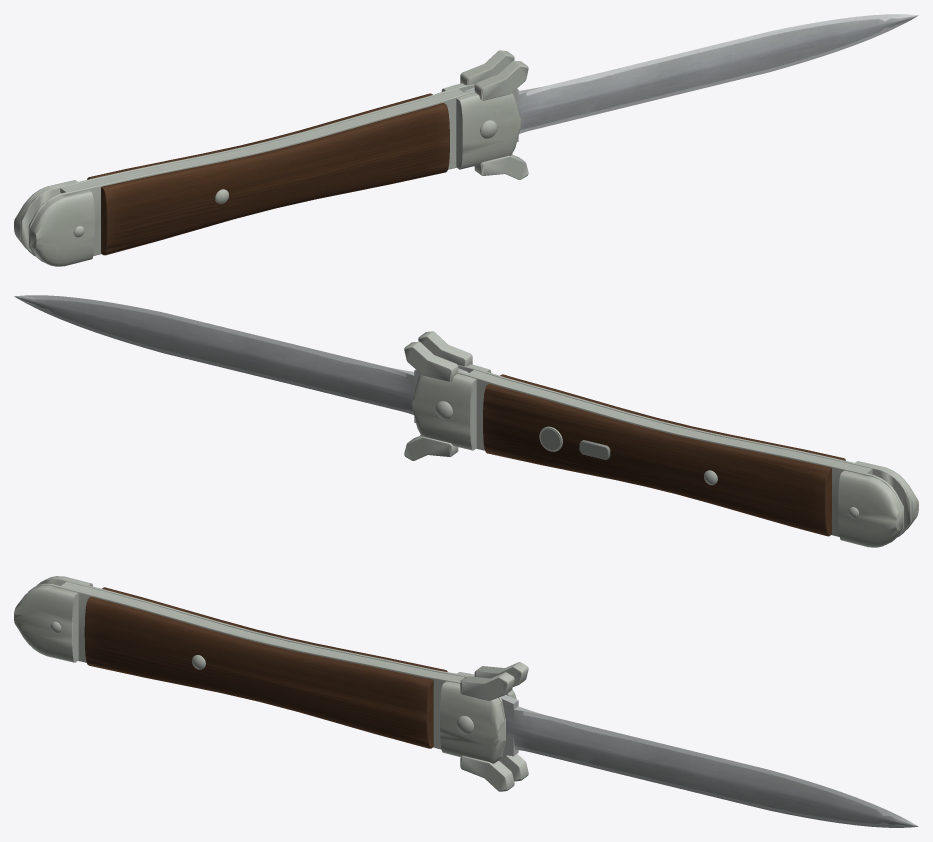
The model's file is stiletto_lod1.glb.
3 renders of one model, top to bottom at view 1: azimuth 30°, elevation 25°; view 2: azimuth 150°, elevation 25°; view 3: azimuth 330°, elevation 25°, orthographic.
Visible parts, largest first — view 1: body, blade_pivot_mesh; view 2: body, blade_pivot_mesh; view 3: body, blade_pivot_mesh.
Boxes of the visible parts, x1,y1,x2,y2 form: body: (14,50,528,266); blade_pivot_mesh: (464,14,918,141); body: (404,331,918,547); blade_pivot_mesh: (14,295,468,422); body: (14,576,528,791); blade_pivot_mesh: (500,695,918,827).
Bounding box in the file's own units: 0.275 × 0.0338 × 0.0146.
5 materials, 5 textured.
